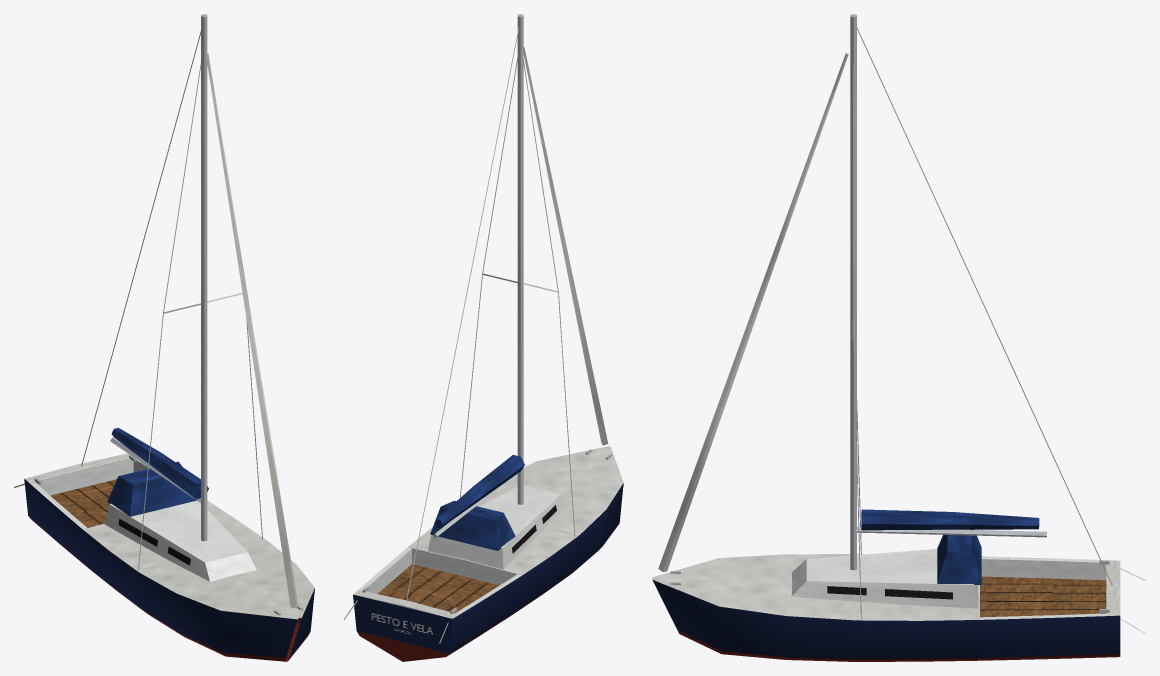
The model's file is SM_Morin_Barca_Vela9_Blu_LOD1.fbx.
3 renders of one model, left to right at view 1: azimuth 30°, elevation 25°; view 2: azimuth 150°, elevation 25°; view 3: azimuth 270°, elevation 25°, orthographic. The views are drawn at different scales.
Parts seen in each view (by area): view 1: SM_Morin_Barca_Vela9_Blu_LOD1; view 2: SM_Morin_Barca_Vela9_Blu_LOD1; view 3: SM_Morin_Barca_Vela9_Blu_LOD1.
Boxes of the visible parts, x1,y1,x2,y2 form: SM_Morin_Barca_Vela9_Blu_LOD1: (14, 14, 314, 661); SM_Morin_Barca_Vela9_Blu_LOD1: (343, 14, 623, 661); SM_Morin_Barca_Vela9_Blu_LOD1: (652, 14, 1145, 661).
Size of the model in its own units: 300 by 944 by 1340.
1 material, 1 textured.
